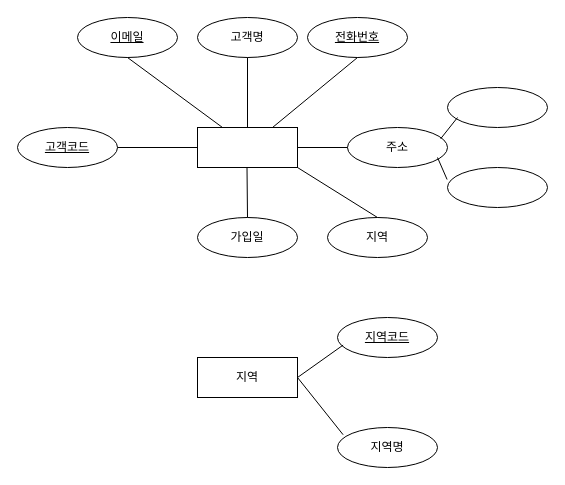
This 565x485 diagram has some shape labels left out. The centre of each missing label's shape, as x and y in pixels:
"고객" goes at point 247,147.
"기본주소" goes at point 497,107.
"상세주소" goes at point 497,187.
